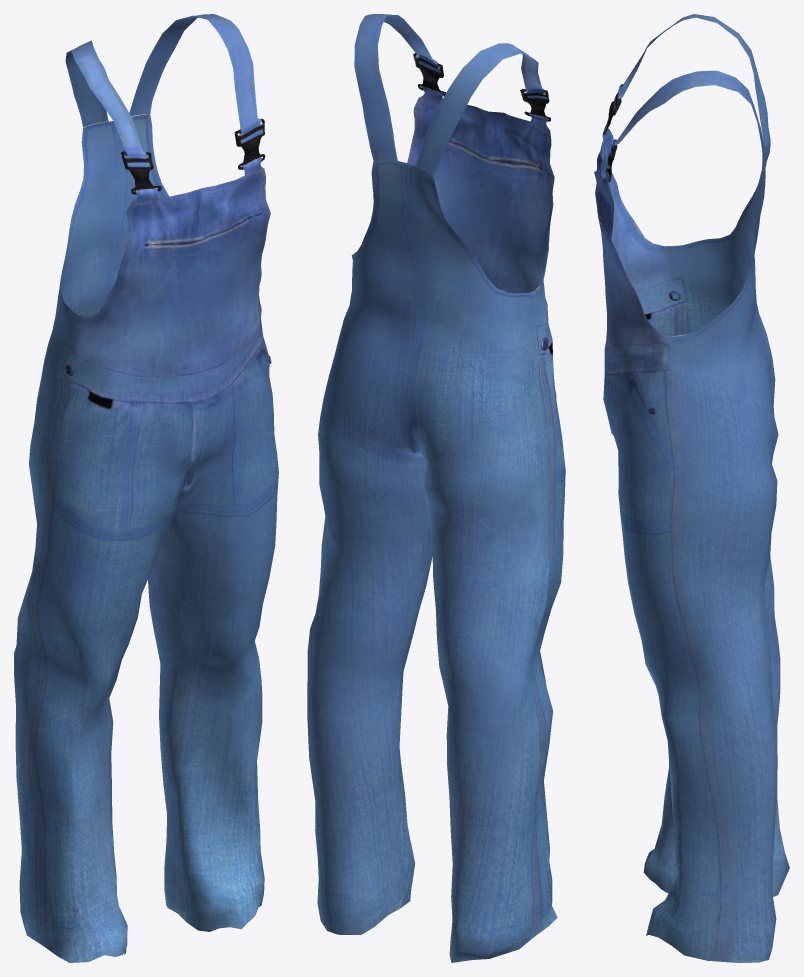
The model's file is bottom_overalls.gltf.
3 renders of one model, left to right at view 1: azimuth 30°, elevation 25°; view 2: azimuth 150°, elevation 25°; view 3: azimuth 270°, elevation 25°, orthographic. The views are drawn at different scales.
Visible parts, largest first — view 1: bottom_overalls; view 2: bottom_overalls; view 3: bottom_overalls.
Part boxes in pixels (x1,y1,x2,y2): bottom_overalls: (14, 14, 278, 962); bottom_overalls: (307, 14, 565, 962); bottom_overalls: (594, 14, 789, 962).
Size of the model in its own units: 0.3916 by 1.47 by 0.2974.
1 material, 1 textured.
